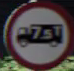Heavy Vehicles: (4, 4, 70, 58)
